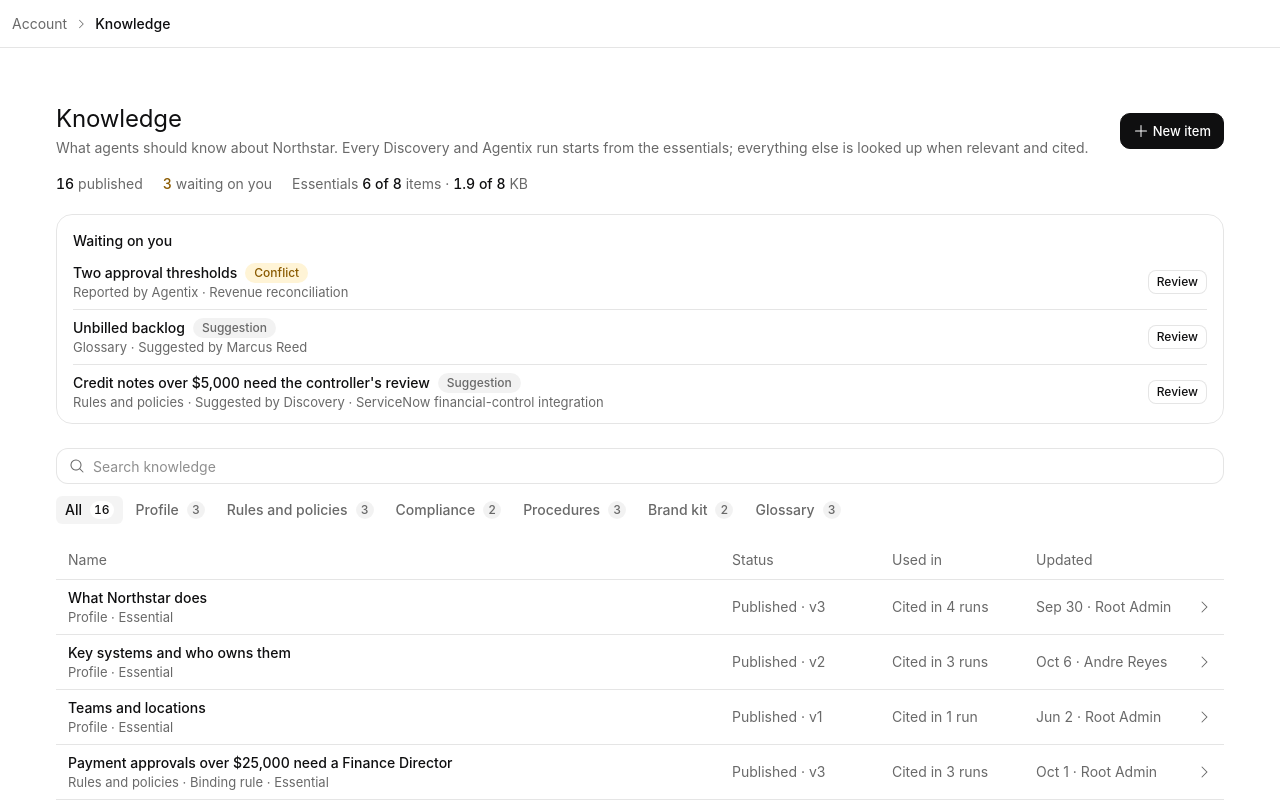
it: Knowledge › filters the library by section
The image size is (1280, 800).
expect the button "What Northstar does" is shown: met, box [56,580,1224,635]
What coordinates should you click on to do the following:
click the button "Glossary 3"
I would click on:
 (798, 510)
Its box is [746,496,850,524].
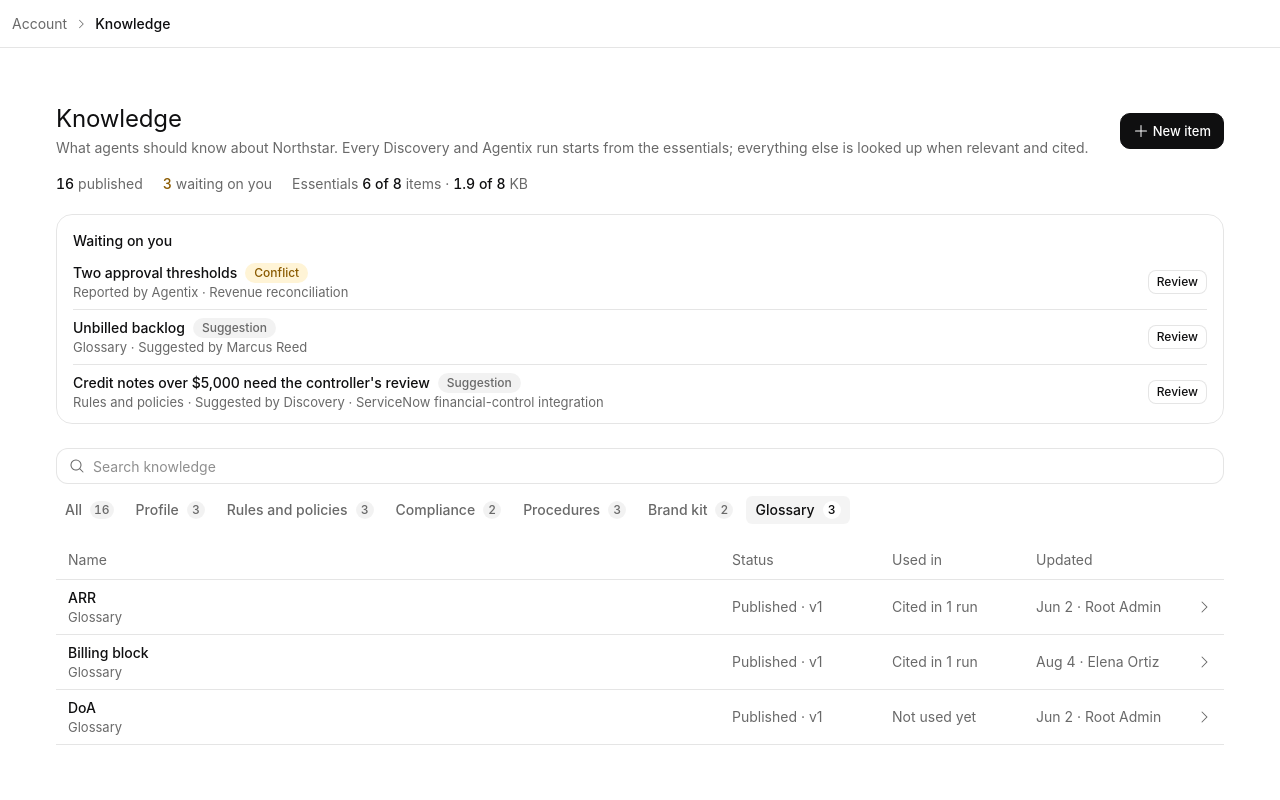
expect the button "ARR" is shown: met, box [56,580,1224,635]
expect the button "What Northstar does" is gone: met
